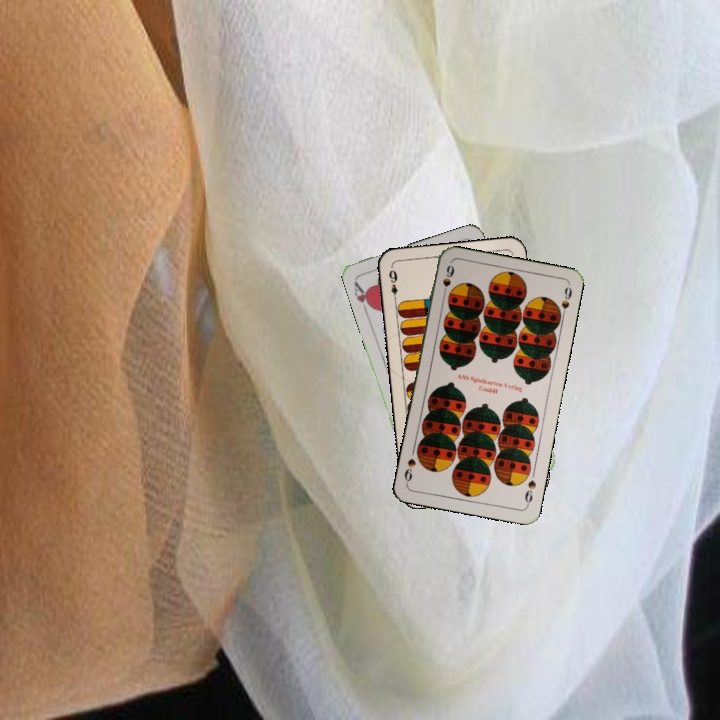E9: (385, 266, 400, 304)
HA: (350, 277, 375, 316)
S9: (439, 261, 457, 301), (521, 476, 538, 509)
